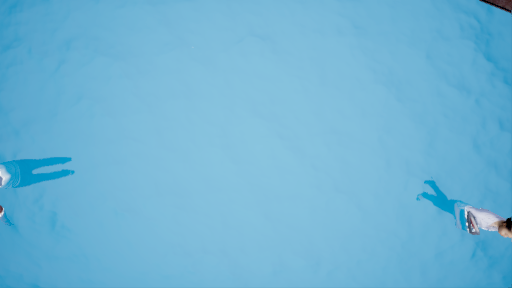person: (417, 179, 512, 252)
